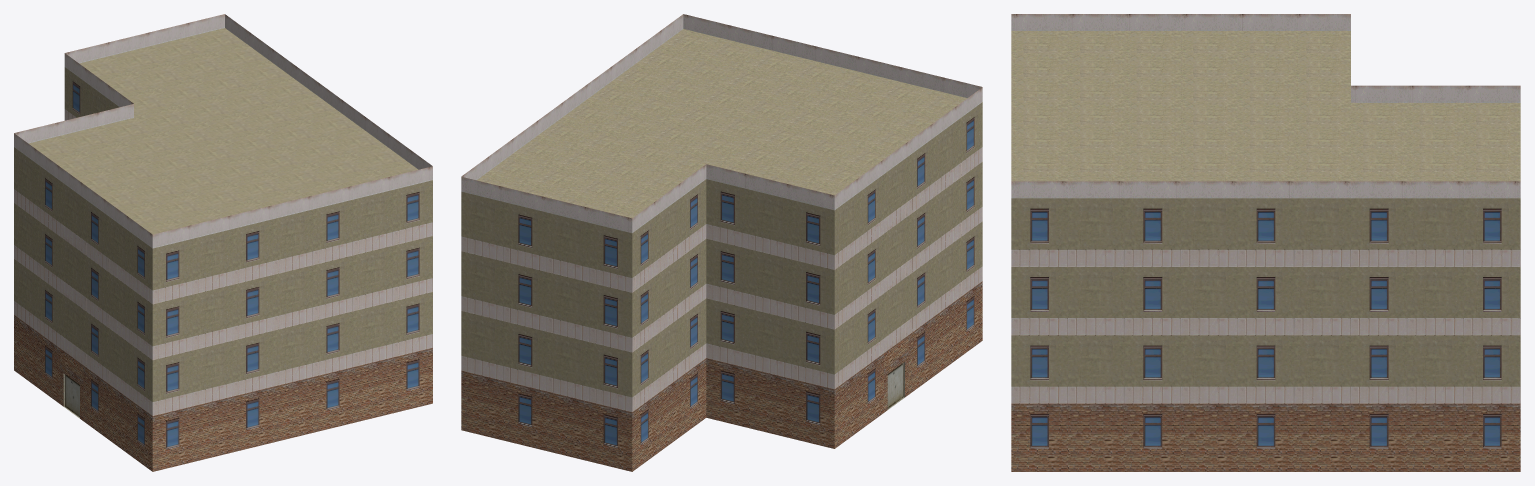
The model's file is Urban_ApartmentLShapeMixed_Model.fbx.
The picture shows the model from 3 angles, left to right: view 1: azimuth 30°, elevation 25°; view 2: azimuth 150°, elevation 25°; view 3: azimuth 270°, elevation 25°; orthographic projection. The views are drawn at different scales.
Parts seen in each view (by area): view 1: Urban_ApartmentLShapeMixed_Mesh; view 2: Urban_ApartmentLShapeMixed_Mesh; view 3: Urban_ApartmentLShapeMixed_Mesh.
Part boxes in pixels (bbox=[...]): Urban_ApartmentLShapeMixed_Mesh: bbox=[14, 14, 432, 471]; Urban_ApartmentLShapeMixed_Mesh: bbox=[461, 14, 982, 471]; Urban_ApartmentLShapeMixed_Mesh: bbox=[1011, 14, 1520, 471].
Bounding box in the file's own units: 14.7 × 11.9 × 18.9.
